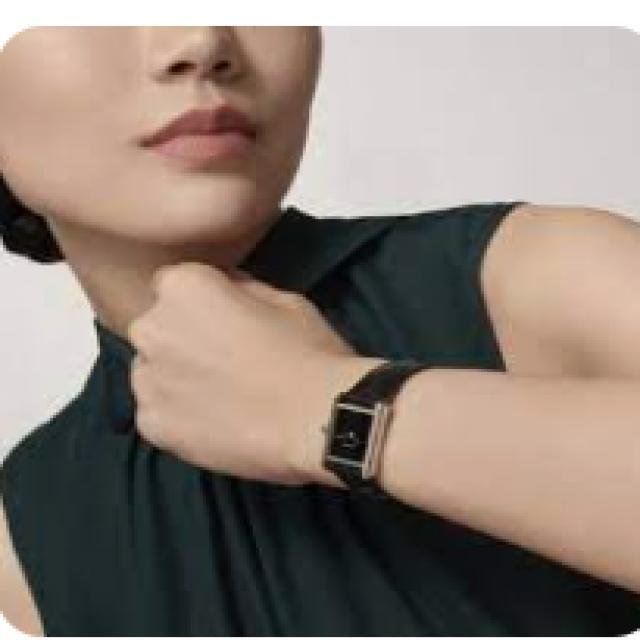Watch: (318, 358, 417, 502)
